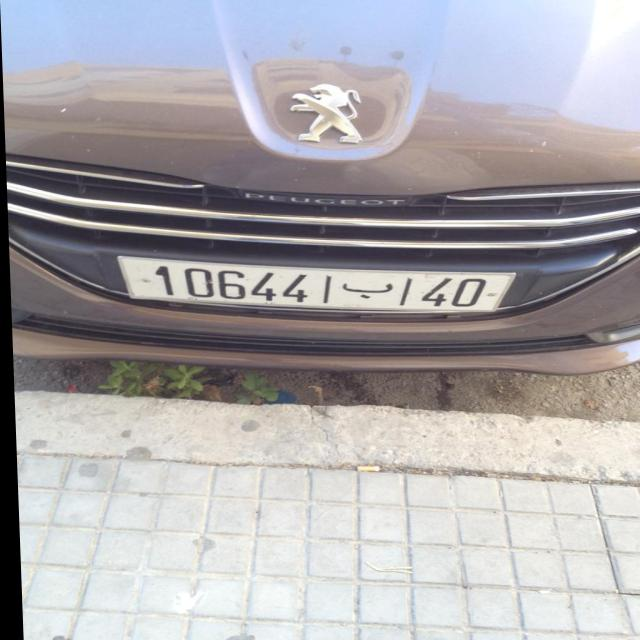License-Plate: (116, 256, 513, 312)
